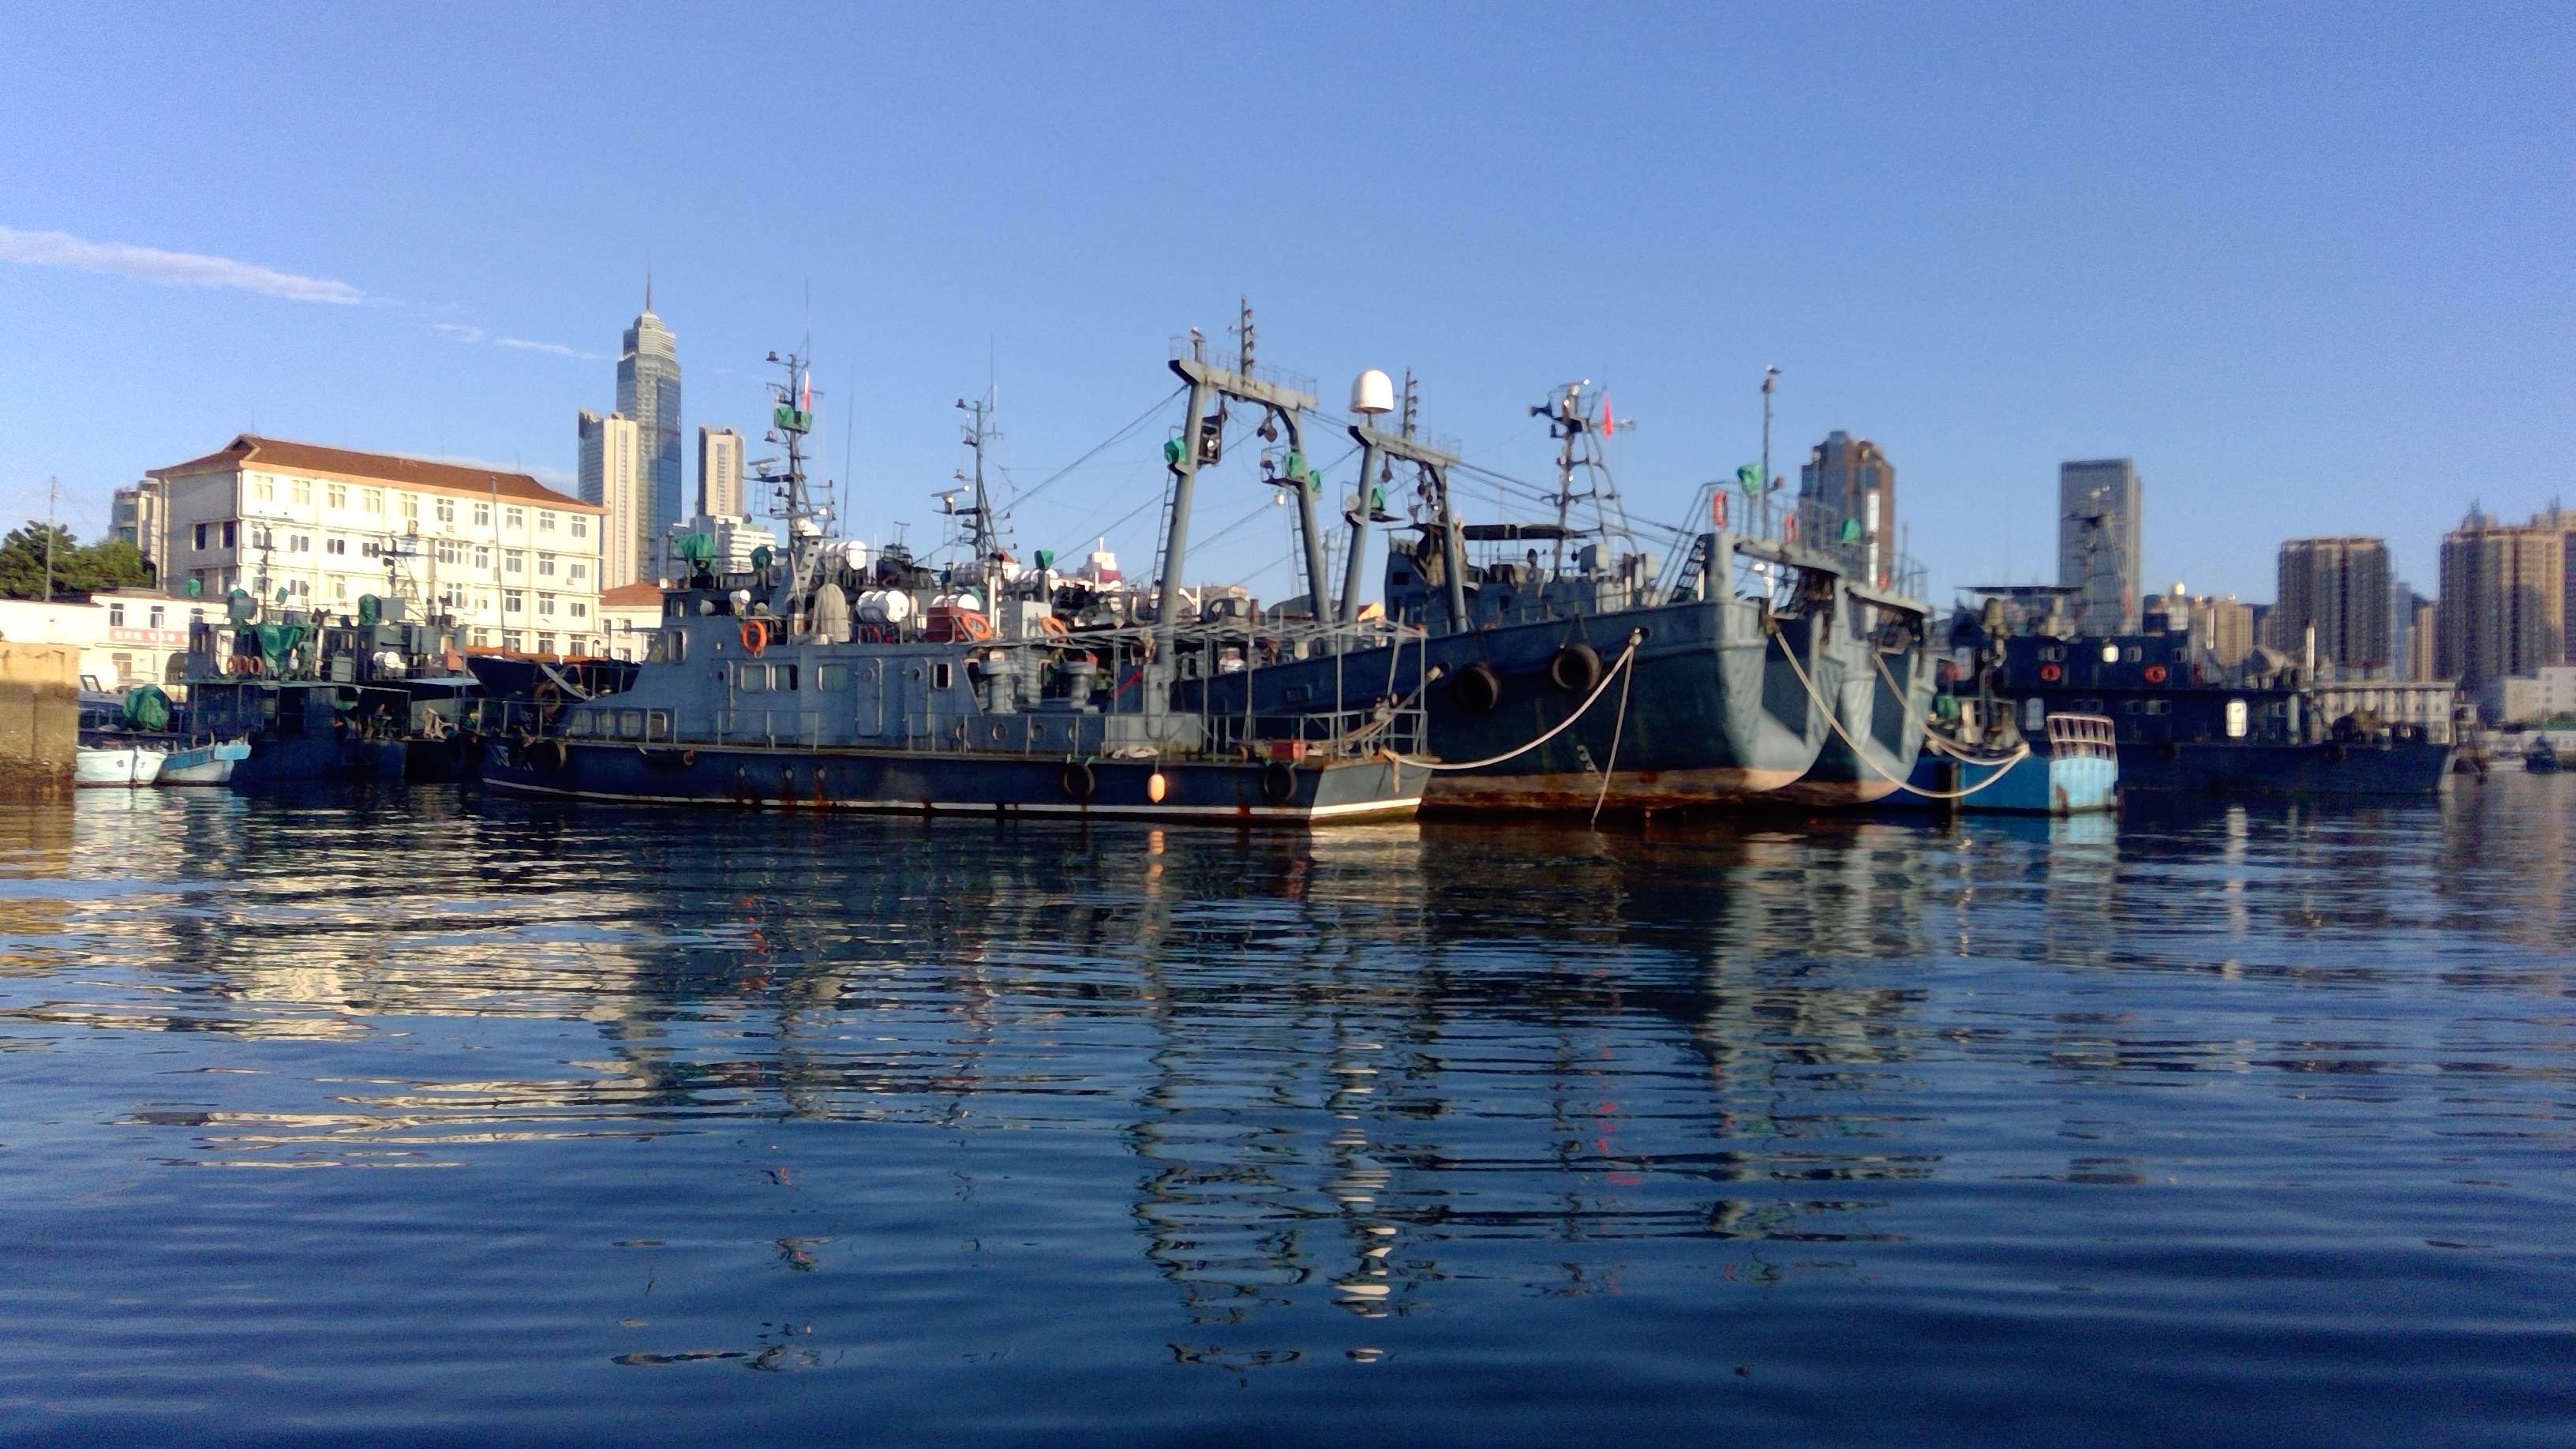ship: (432, 476, 1431, 846), (1315, 382, 1845, 821), (1794, 513, 1950, 830), (1946, 663, 2130, 835)
